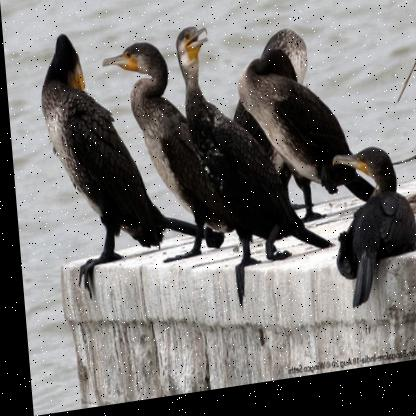Burung: (34, 23, 210, 266), (174, 15, 325, 272), (97, 34, 238, 275), (235, 55, 383, 235), (322, 144, 415, 315)
